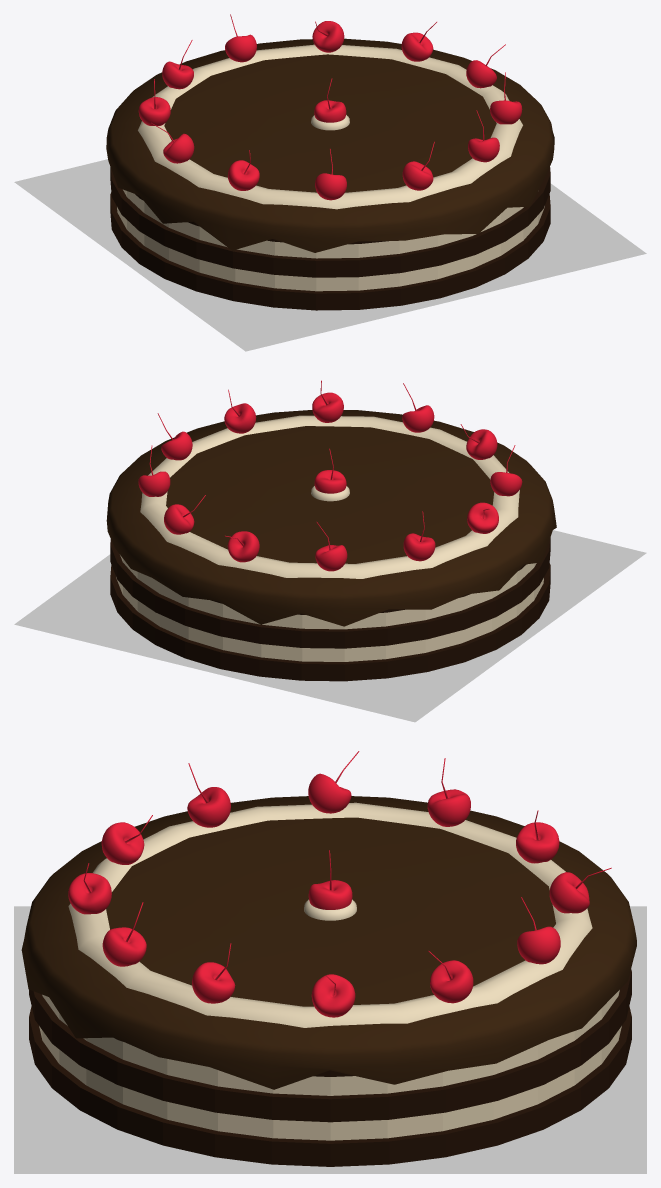
File: cake.gltf
The picture shows the model from 3 angles, top to bottom: view 1: azimuth 30°, elevation 25°; view 2: azimuth 150°, elevation 25°; view 3: azimuth 270°, elevation 25°; orthographic projection. The views are drawn at different scales.
Visible parts, largest first — view 1: Cylinder.006_8, Plane_0, Cylinder.007_9, Cylinder.001_3, Cylinder.003_5, Cylinder.002_4, Cylinder.004_6, Sphere.006_16, Sphere.011_21, Sphere.009_19, Sphere.005_15, Sphere.012_22 (+8 smaller); view 2: Cylinder.006_8, Plane_0, Cylinder.007_9, Cylinder.001_3, Cylinder.003_5, Cylinder.002_4, Cylinder.004_6, Sphere.007_17, Sphere.010_20, Sphere.001_11, Sphere.002_13, Sphere.012_22 (+8 smaller); view 3: Cylinder.006_8, Plane_0, Cylinder.007_9, Cylinder.001_3, Cylinder.003_5, Cylinder.002_4, Cylinder.004_6, Sphere.004_14, Sphere.005_15, Sphere.013_23, Sphere.012_22, Sphere.008_18 (+9 smaller).
Boxes of the visible parts, bbox=[...] form: Cylinder.006_8: bbox=[106, 38, 554, 252]; Plane_0: bbox=[14, 159, 646, 351]; Cylinder.007_9: bbox=[138, 44, 522, 209]; Cylinder.001_3: bbox=[110, 192, 550, 310]; Cylinder.003_5: bbox=[110, 167, 550, 277]; Cylinder.002_4: bbox=[117, 206, 544, 291]; Cylinder.004_6: bbox=[123, 189, 523, 258]; Sphere.006_16: bbox=[312, 21, 344, 52]; Sphere.011_21: bbox=[228, 150, 259, 190]; Sphere.009_19: bbox=[138, 79, 170, 125]; Sphere.005_15: bbox=[401, 22, 436, 61]; Sphere.012_22: bbox=[315, 149, 346, 200]; Cylinder.006_8: bbox=[106, 410, 556, 626]; Plane_0: bbox=[14, 530, 646, 722]; Cylinder.007_9: bbox=[140, 415, 519, 578]; Cylinder.001_3: bbox=[110, 563, 550, 681]; Cylinder.003_5: bbox=[110, 537, 550, 648]; Cylinder.002_4: bbox=[116, 577, 543, 661]; Cylinder.004_6: bbox=[120, 555, 536, 629]; Sphere.007_17: bbox=[225, 531, 259, 562]; Sphere.010_20: bbox=[467, 502, 498, 533]; Sphere.001_11: bbox=[312, 380, 343, 422]; Sphere.002_13: bbox=[224, 389, 256, 433]; Sphere.012_22: bbox=[460, 424, 497, 459]; Cylinder.006_8: bbox=[21, 796, 636, 1089]; Plane_0: bbox=[14, 906, 646, 1173]; Cylinder.007_9: bbox=[68, 802, 592, 1027]; Cylinder.001_3: bbox=[29, 1006, 631, 1166]; Cylinder.003_5: bbox=[29, 969, 631, 1122]; Cylinder.002_4: bbox=[39, 1026, 621, 1140]; Cylinder.004_6: bbox=[42, 990, 619, 1095]; Sphere.004_14: bbox=[311, 974, 355, 1017]; Sphere.005_15: bbox=[428, 951, 473, 1003]; Sphere.013_23: bbox=[68, 863, 111, 914]; Sphere.012_22: bbox=[101, 815, 152, 864]; Sphere.008_18: bbox=[516, 810, 559, 863].
Size of the model in its own units: 3.86 by 1.3 by 3.86.
